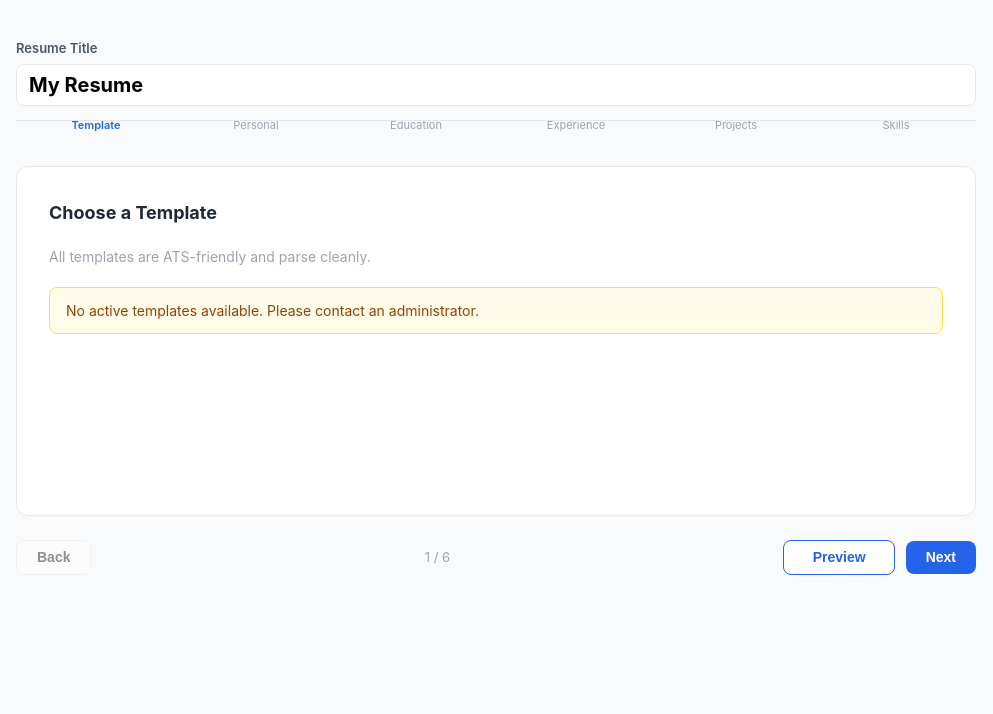
Test: ResumeWizard create vs edit mode › advances through steps via Next
Expected: the text "1 / 6" is shown, [425,548,450,567]
Click the button "Next". click: (941, 557)
box: [906,541,976,574]
(page scrolled)
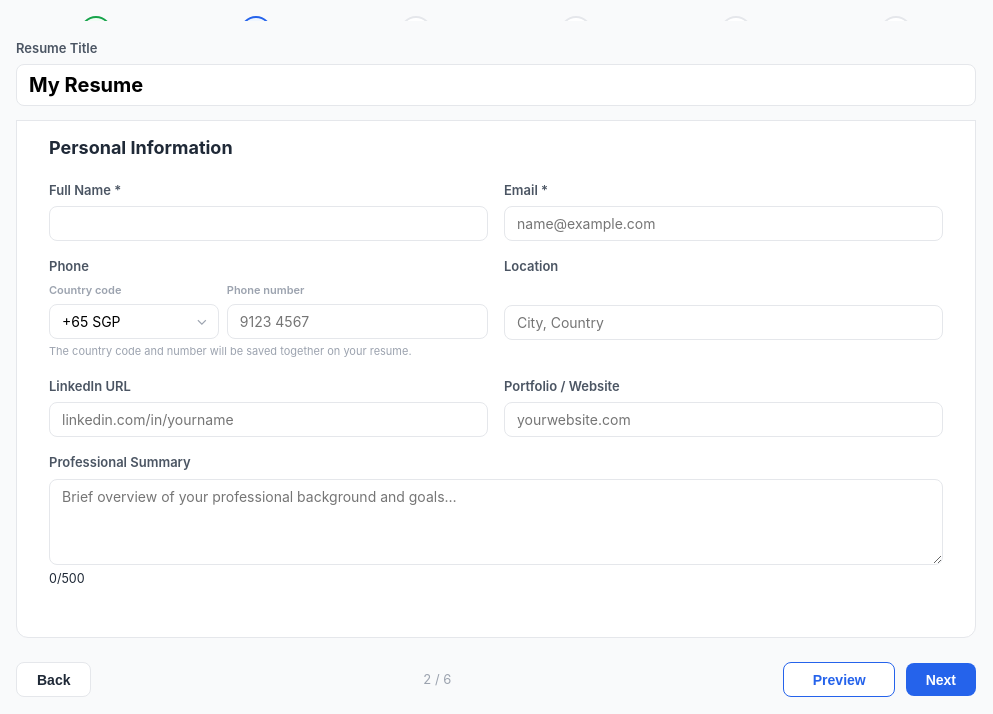
Expected: the text "2 / 6" is shown, [423,670,451,689]
